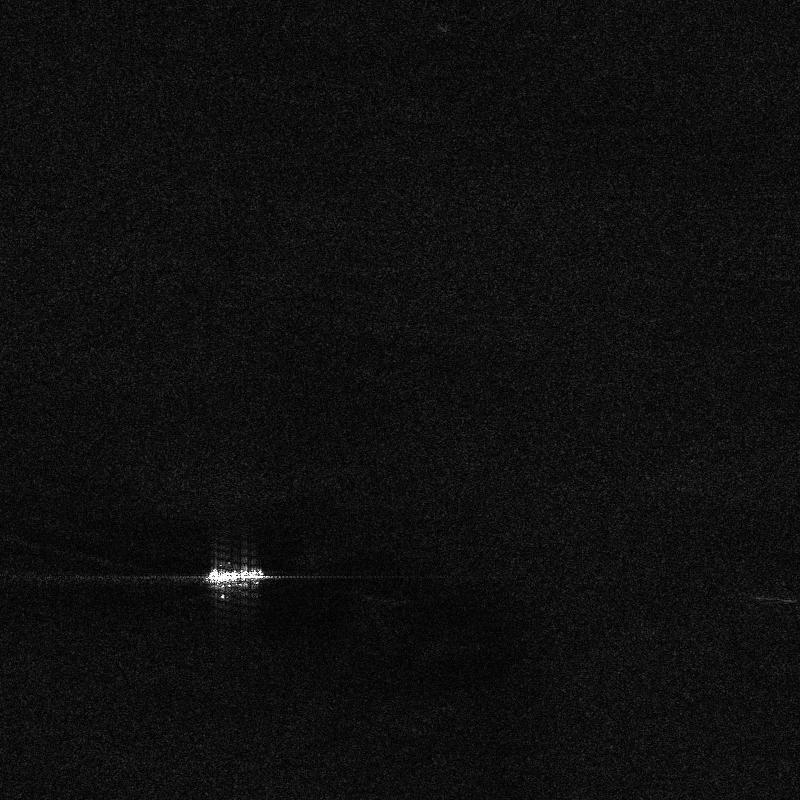ship: (205, 569, 265, 583)
